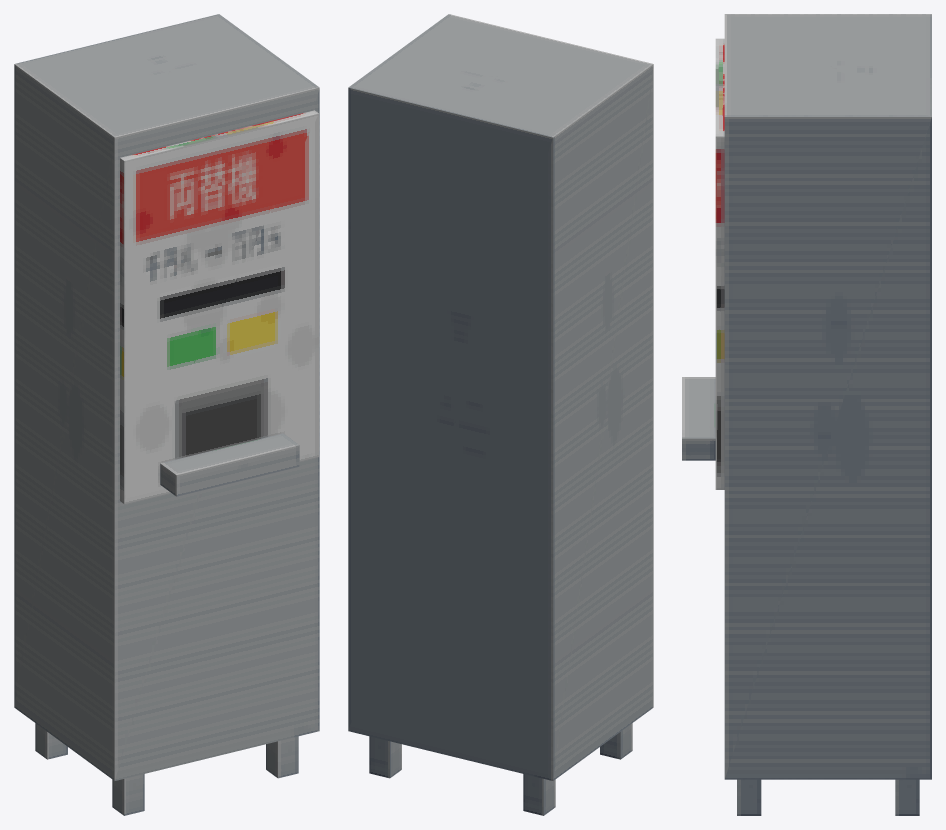
File: coinchanger.glb
3 views of the same model, side by side, from view 1: azimuth 30°, elevation 25°; view 2: azimuth 150°, elevation 25°; view 3: azimuth 270°, elevation 25° (orthographic). The views are drawn at different scales.
Parts seen in each view (by area): view 1: mesh; view 2: mesh; view 3: mesh.
Boxes of the visible parts, x1=… form: mesh: x1=14, y1=14, x2=319, y2=815; mesh: x1=348, y1=14, x2=653, y2=815; mesh: x1=682, y1=14, x2=931, y2=815.
Size of the model in its own units: 0.4001 by 1.28 by 0.4101.
Materials: 1 (1 with a texture image).
